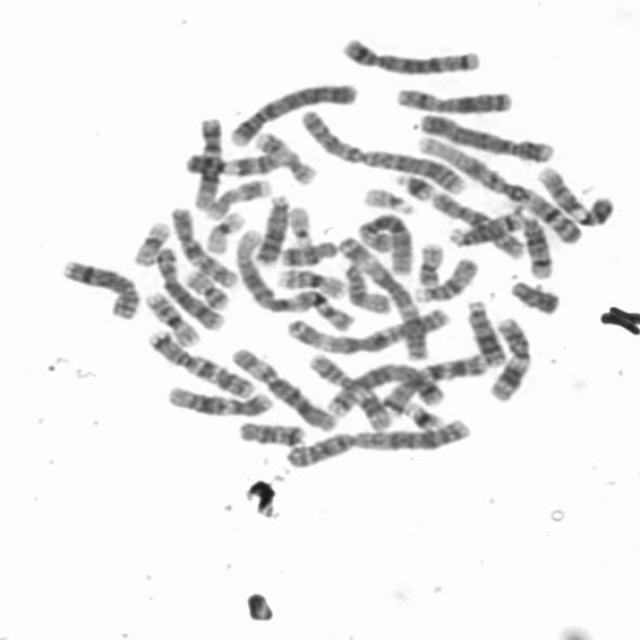A1: (410, 127, 587, 246), (228, 222, 358, 331)
A2: (292, 102, 469, 198), (278, 411, 476, 469)
A3: (333, 229, 432, 362), (279, 300, 454, 355)
B4: (220, 75, 360, 148), (411, 105, 557, 164)
B5: (317, 356, 448, 417), (334, 30, 484, 76)
C10: (424, 185, 526, 260), (162, 200, 241, 290)
C11: (300, 346, 394, 432), (482, 310, 534, 403)
C12: (158, 378, 276, 419), (186, 109, 225, 211)
C6: (224, 340, 339, 432), (350, 206, 415, 276)
C7: (140, 324, 258, 399), (377, 346, 491, 417)
C8: (148, 240, 228, 332), (53, 250, 143, 322)
C9: (529, 159, 616, 227), (176, 144, 286, 178)
D13: (460, 292, 508, 367), (249, 188, 291, 266)
D14: (443, 200, 529, 248), (516, 207, 556, 279)
D15: (406, 250, 482, 304), (336, 254, 396, 316)
E16: (138, 284, 203, 347), (270, 261, 348, 300)
E17: (248, 124, 320, 187), (199, 171, 274, 220)
E18: (231, 414, 308, 447), (272, 233, 340, 267)
F19: (124, 214, 174, 268), (198, 204, 248, 253)
F20: (178, 262, 232, 310), (411, 236, 446, 288)
G21: (398, 394, 446, 432), (389, 165, 437, 201)
G22: (356, 180, 417, 214), (281, 198, 316, 246)
X: (388, 80, 516, 115)
Y: (502, 272, 563, 316)
